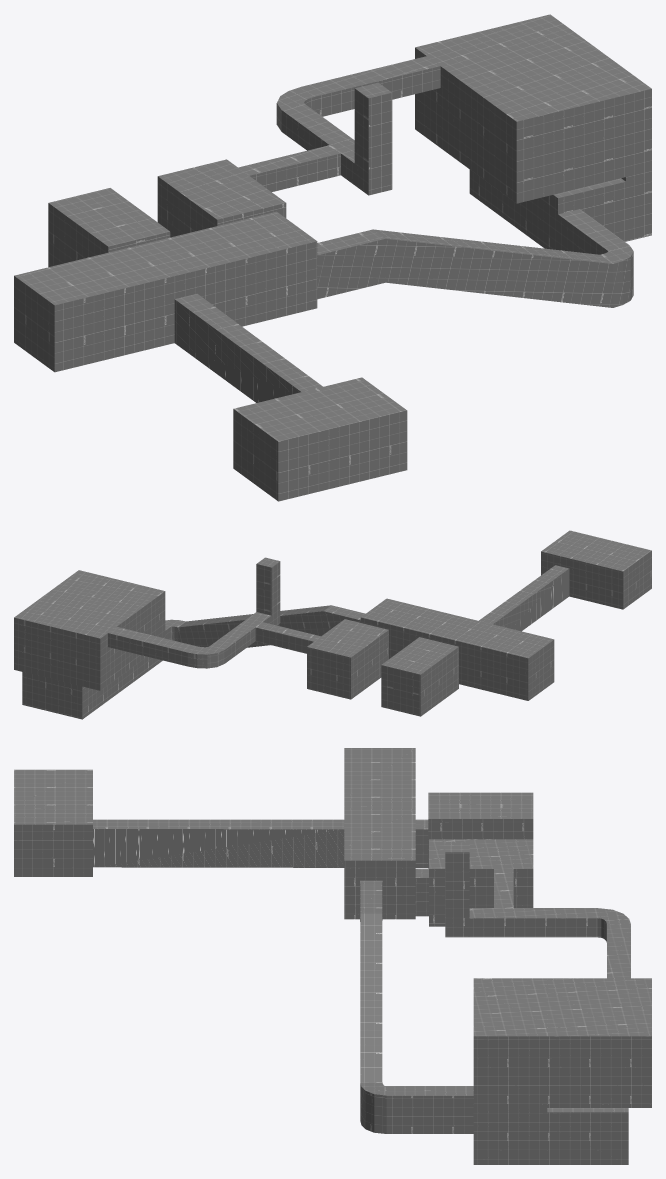
File: basement_new_expanded.obj
The picture shows the model from 3 angles, top to bottom: view 1: azimuth 30°, elevation 25°; view 2: azimuth 150°, elevation 25°; view 3: azimuth 270°, elevation 25°; orthographic projection. The views are drawn at different scales.
Parts seen in each view (by area): view 1: Room_Cube; view 2: Room_Cube; view 3: Room_Cube.
Boxes of the visible parts, box(x1,y1,x2,y2) form: Room_Cube: box(14, 14, 651, 501); Room_Cube: box(14, 530, 651, 719); Room_Cube: box(14, 748, 651, 1164).
Bounding box in the file's own units: 51.86 × 16.38 × 48.69.
